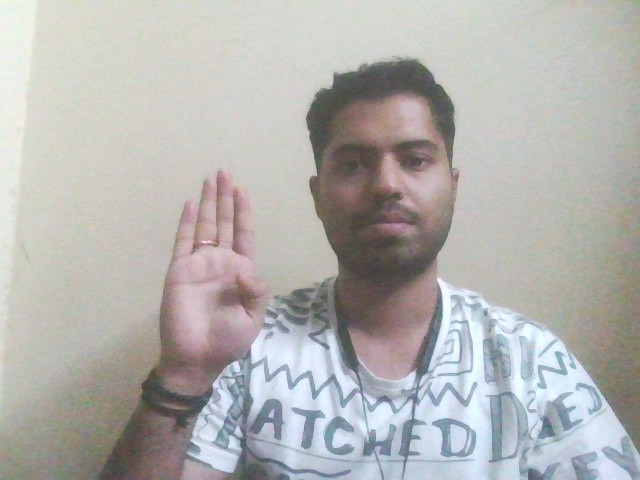IloveYou: (146, 163, 288, 382)
